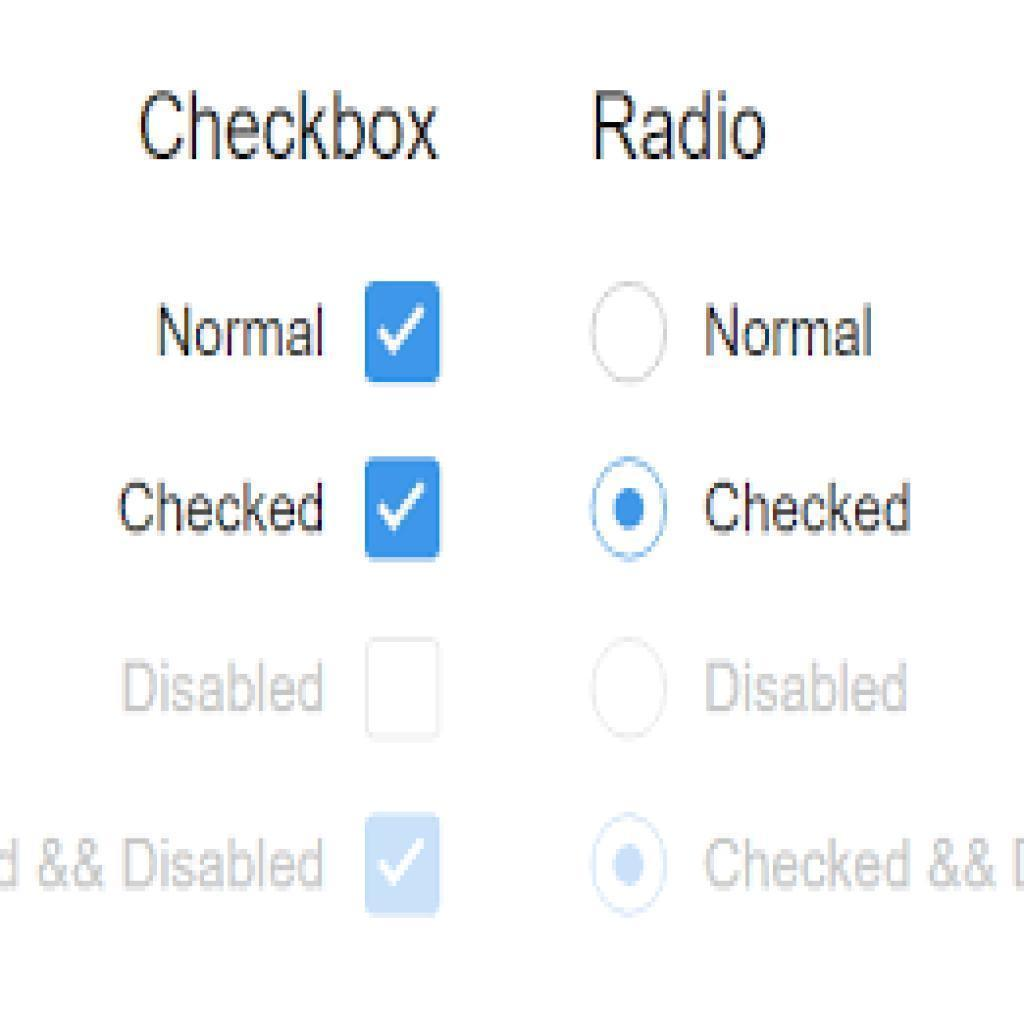checkbox: (363, 459, 440, 559), (364, 818, 442, 915), (366, 283, 440, 377), (371, 641, 440, 740)
label: (129, 82, 453, 169), (40, 822, 328, 902), (700, 822, 994, 894), (696, 472, 918, 544), (592, 82, 770, 170), (114, 470, 328, 538), (122, 651, 325, 722), (702, 650, 905, 719), (153, 293, 323, 367), (703, 301, 883, 364)
radio: (584, 809, 675, 923), (587, 278, 670, 387), (590, 459, 673, 564), (591, 636, 668, 744)
